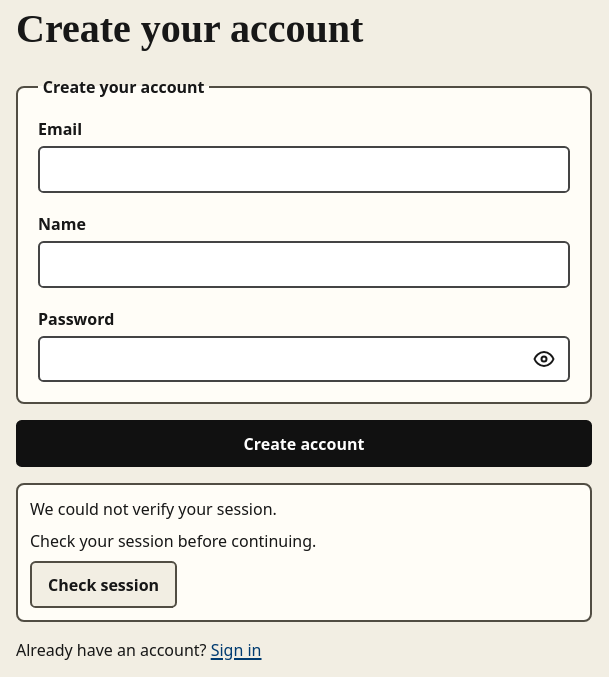
Test: signup-form: › offers verified signup continuation after an acknowledged response could not be checked
Type "ada@example.test" into the field labelled "Email" at (304, 169), box [38,146,570,193]
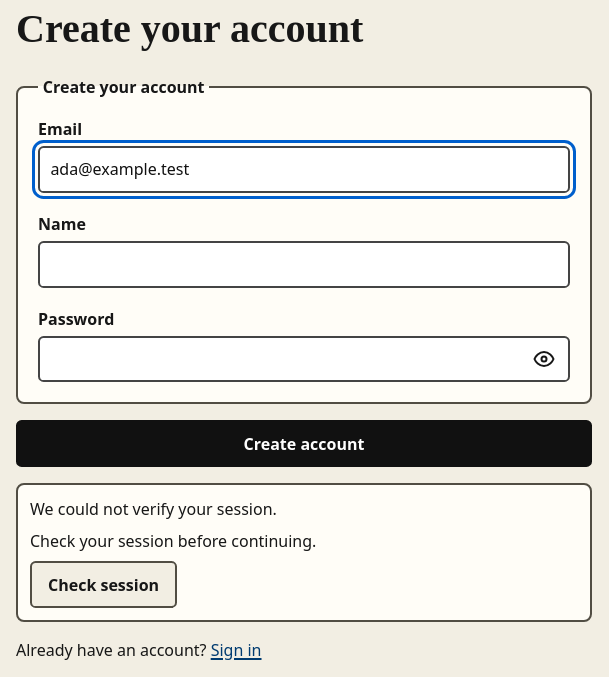
Type "Ada Example" into the field labelled "Name" at (304, 264), box [38,241,570,288]
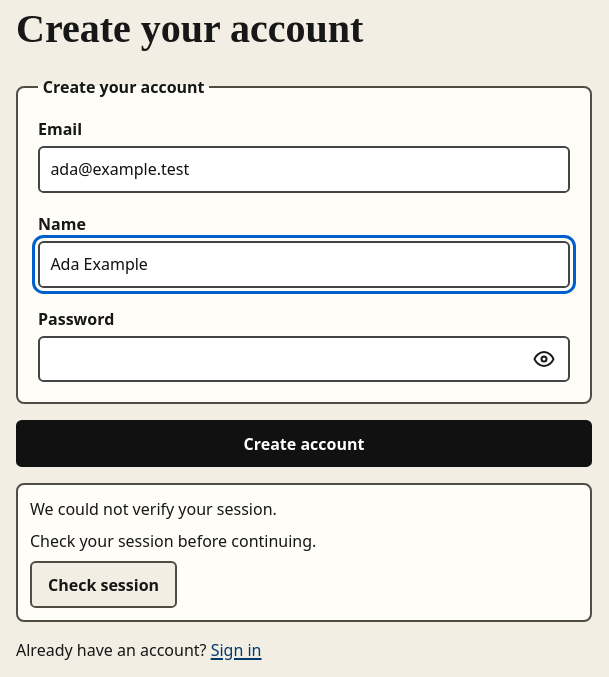
Type "Abcdef1!" into the password field labelled "Password" at (304, 359), box [38,336,570,382]
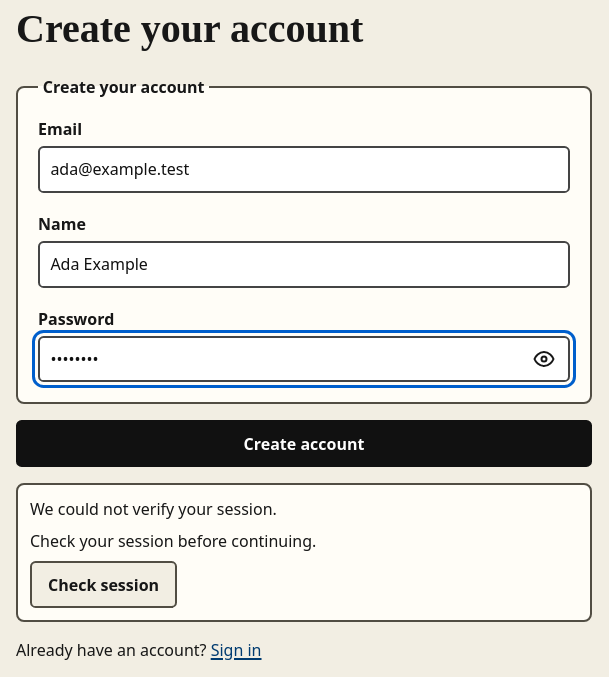
Click the button "Create account" at (304, 444), box [16,420,592,467]
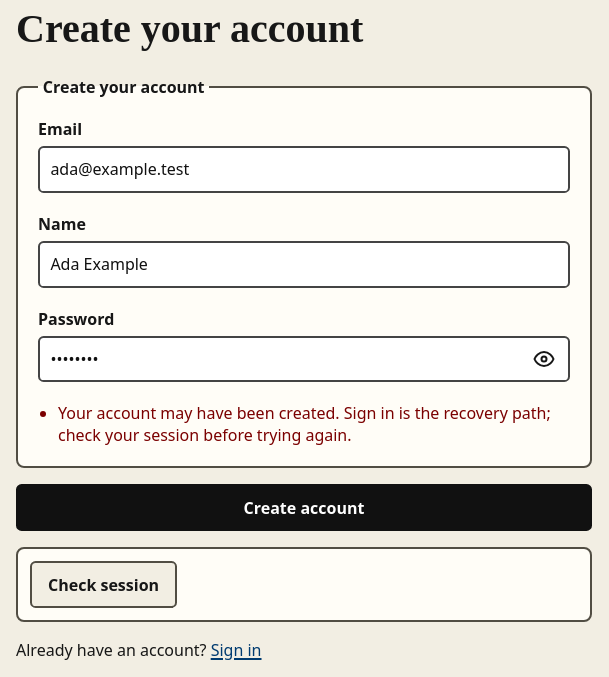
Expected: the message shows "account may have been created", [58,402,551,446]
Expected: the message shows "check your session", [58,402,551,446]
Click the button "Check session" at (104, 584), box [30,561,177,608]
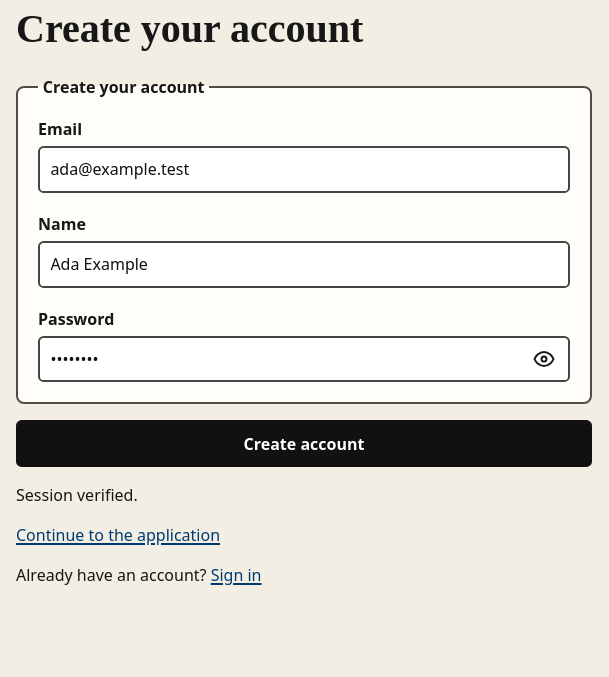
Expected: the message shows "Session verified", [16,484,138,506]
Expected: the link "Continue to the application" is shown, [16,524,220,546]
